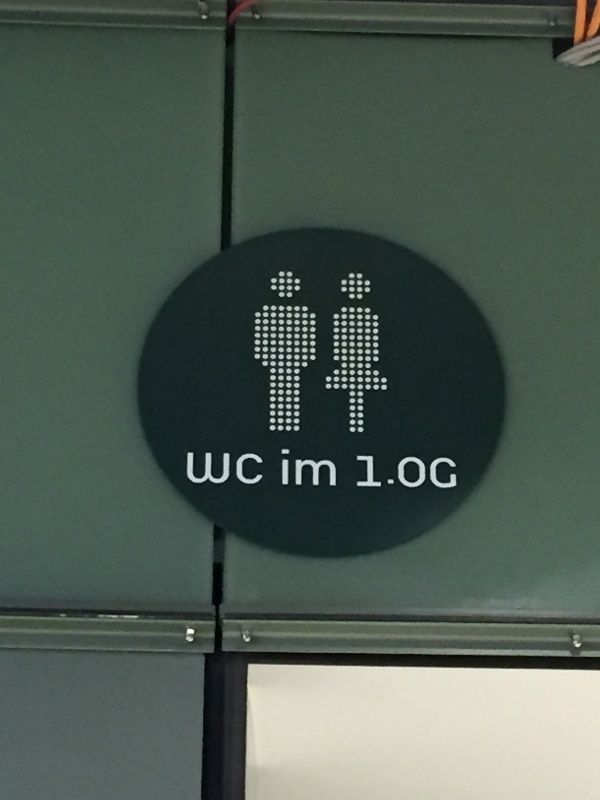text: (321, 448, 337, 487), (289, 448, 304, 487), (305, 448, 320, 487), (193, 451, 208, 487), (209, 451, 224, 487), (225, 451, 240, 487), (241, 451, 256, 487), (369, 454, 384, 490), (385, 454, 400, 490), (401, 454, 416, 490), (417, 454, 432, 490), (433, 454, 448, 490), (357, 454, 368, 490), (449, 454, 456, 490), (282, 448, 288, 487), (257, 451, 263, 487), (188, 451, 192, 487)
